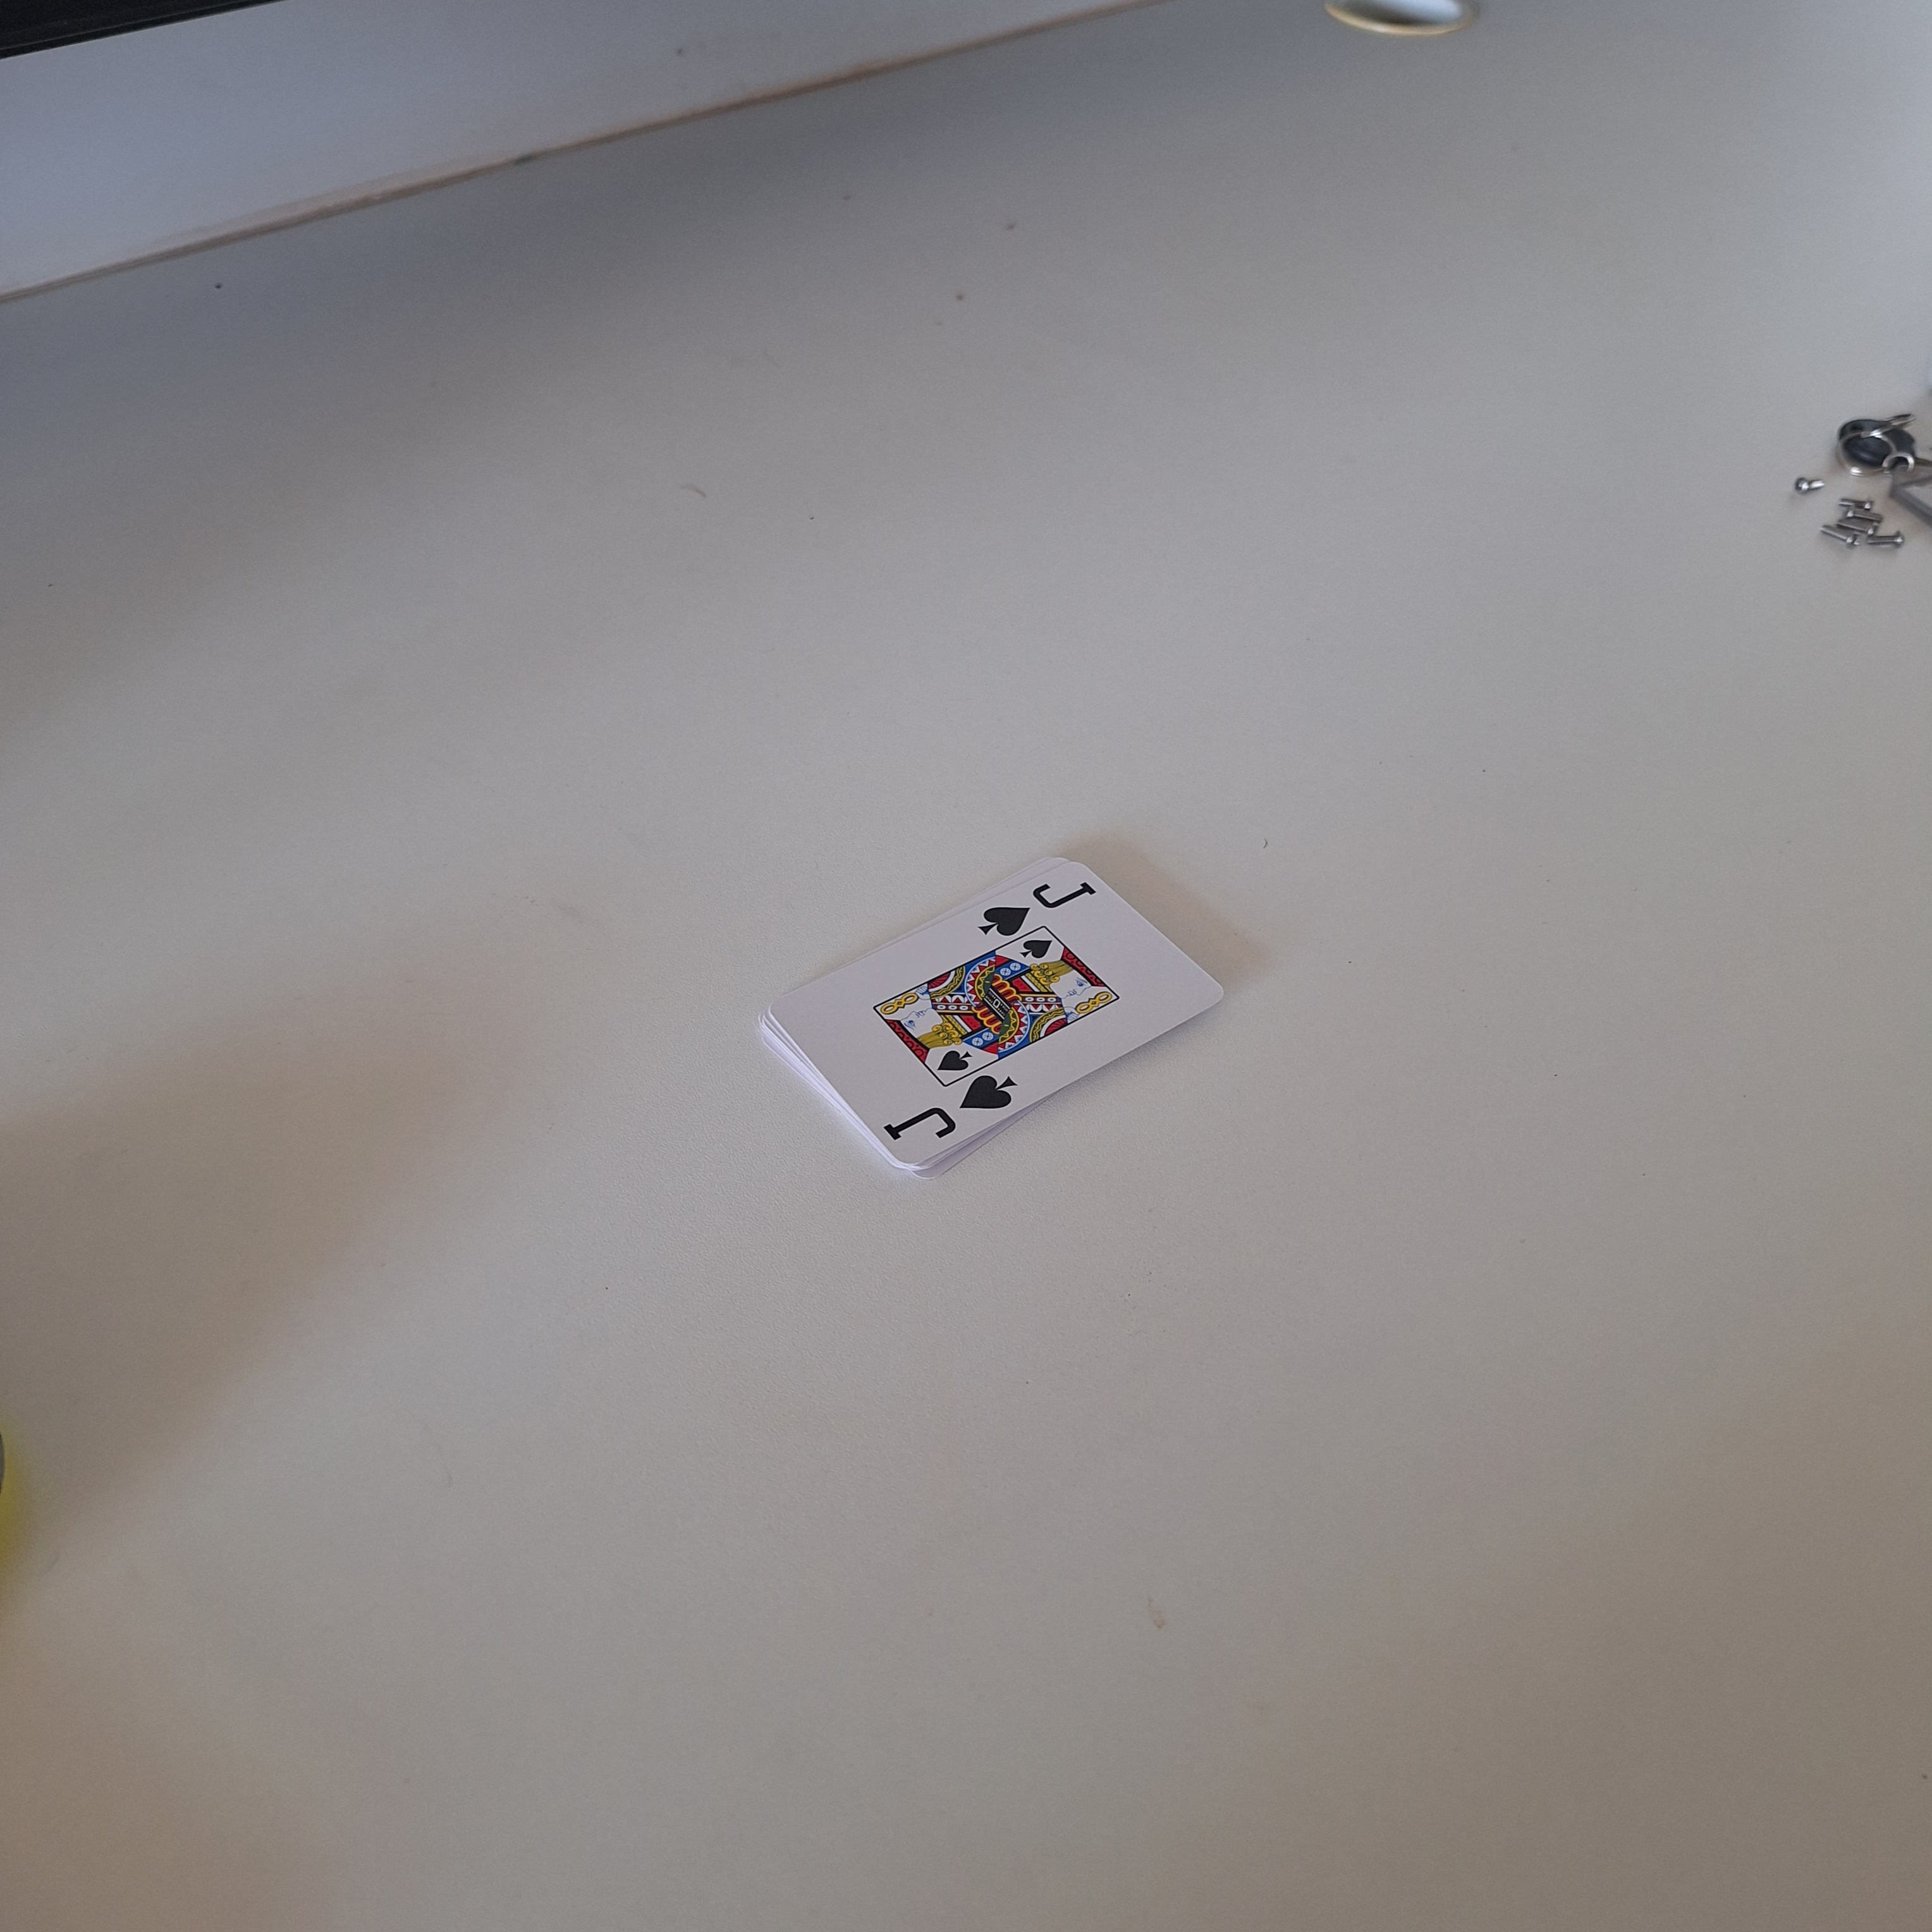JE: (876, 1070, 1021, 1154), (973, 872, 1108, 938)
